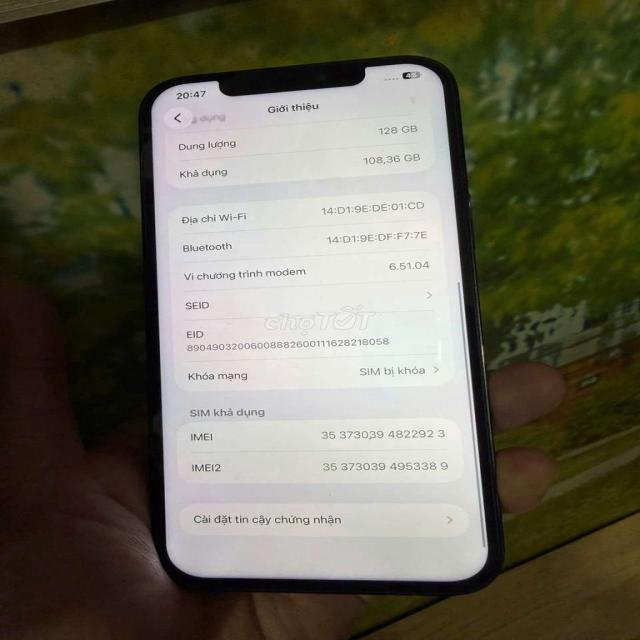gen_12_13: (142, 61, 508, 608)
